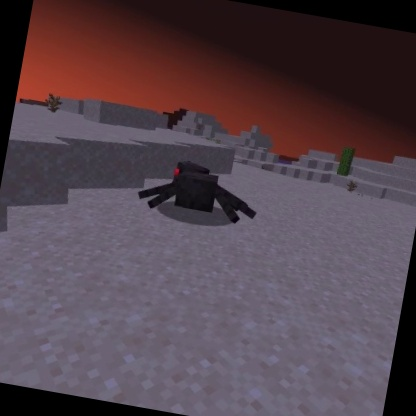spider: (132, 150, 267, 232)
